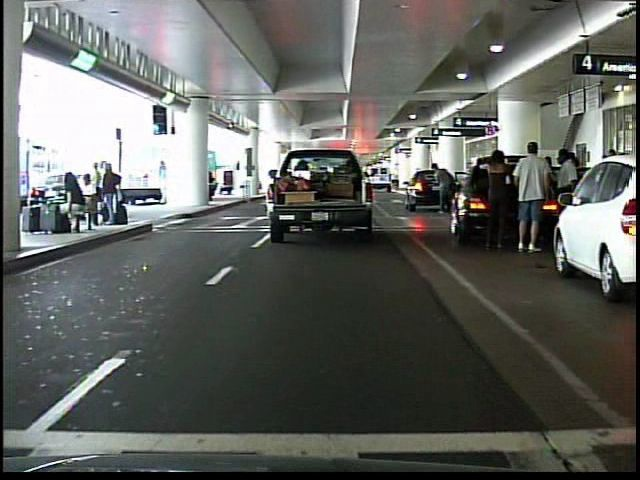person: (511, 139, 552, 255), (477, 138, 515, 256), (550, 143, 585, 256), (428, 157, 454, 219), (156, 160, 172, 205)
